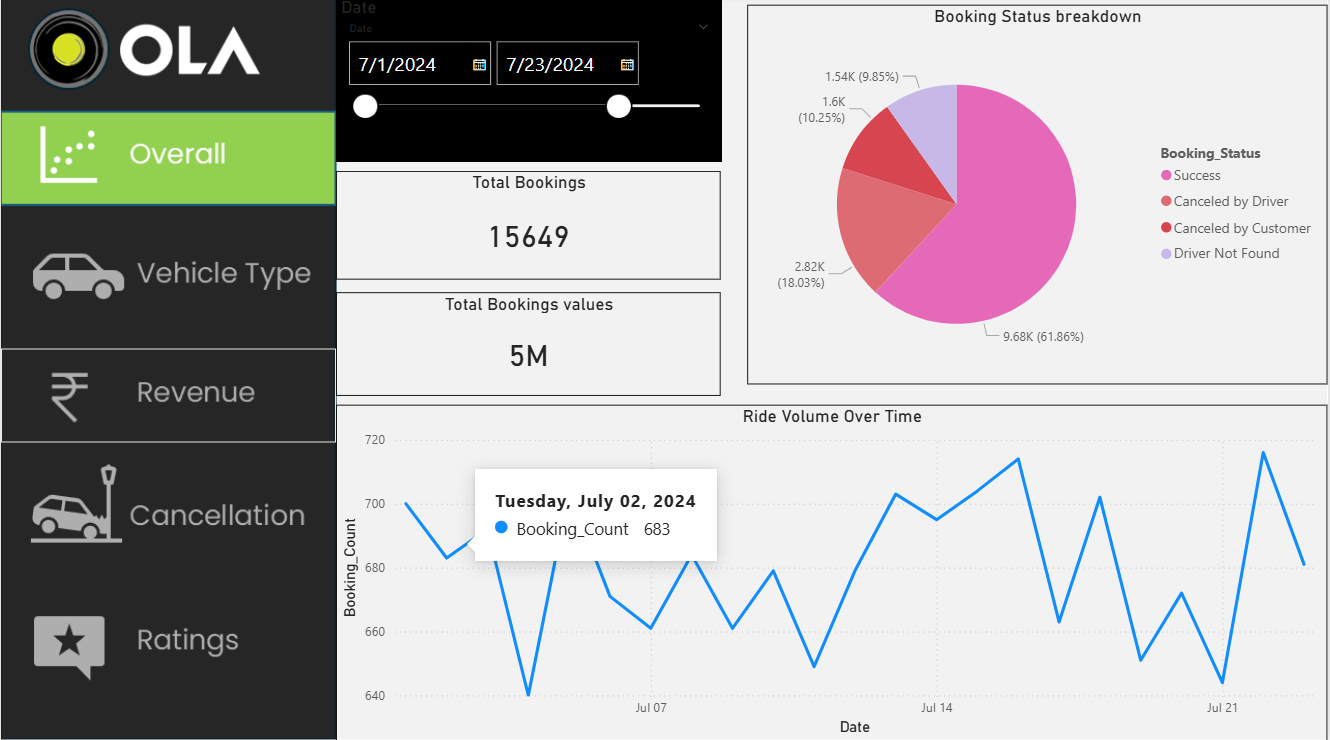

The dashboard page shown, as its layout file describes it:
{"tool":"powerbi","page":{"name":"Overall","canvas":[1280,720],"ordinal":0},"visuals":[{"type":"actionButton","box":[0,218.4,323.3,91.7],"z":0},{"type":"actionButton","box":[0,340.2,323.3,90.5],"z":1000},{"type":"actionButton","box":[0,441.6,323.3,109.8],"z":2000},{"type":"actionButton","box":[0,588.7,323.3,85.7],"z":3000},{"type":"lineChart","title":"Ride Volume Over Time","fields":{"Y":["CountNonNull(July.Booking_ID)"],"Category":["July.Date"]},"box":[323.3,394.5,956.7,325.7],"z":4000},{"type":"pieChart","title":"Booking Status breakdown","fields":{"Category":["July.Booking_Status"],"Y":["CountNonNull(July.Booking_ID)"]},"box":[720.2,8.4,559.8,366.8],"z":5000},{"type":"slicer","title":"Date","fields":{"Values":["July.Date"]},"box":[323.3,0,372,160],"z":6000},{"type":"card","title":"Total Bookings","fields":{"Values":["Count(July.Booking_ID)"]},"box":[323.3,168.9,371.6,105],"z":7000},{"type":"card","title":"Total Bookings values","fields":{"Values":["Sum(July.Booking_Value)"]},"box":[323.3,285.9,371.6,100.1],"z":8000}]}

Visuals, with their boxes in screenshot pixels (x1, y1, x2, y2), scaled from the page's 1280x720 canvas onto the 1330x740 screenshot:
actionButton: 0 224 336 319
actionButton: 0 350 336 443
actionButton: 0 454 336 567
actionButton: 0 605 336 693
"Ride Volume Over Time" lineChart: 336 405 1329 739
"Booking Status breakdown" pieChart: 748 9 1329 386
"Date" slicer: 336 0 722 164
"Total Bookings" card: 336 174 722 282
"Total Bookings values" card: 336 294 722 397
